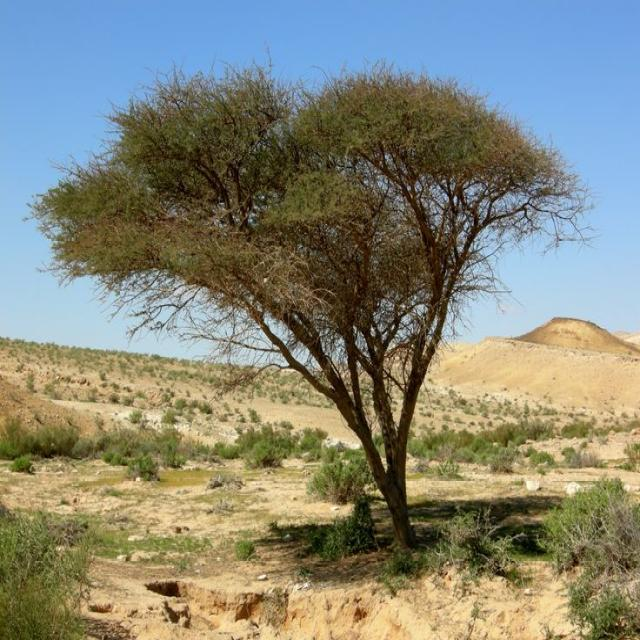Acacia: (79, 103, 545, 518)
